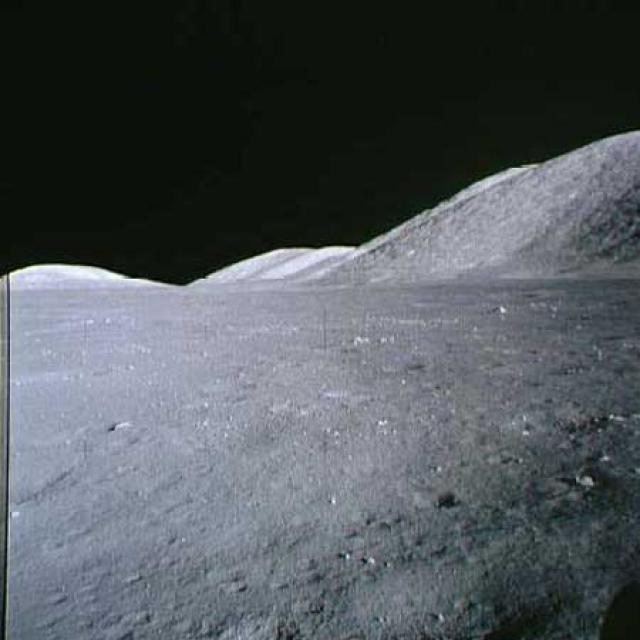crater: (509, 402, 620, 452), (10, 448, 74, 512)
